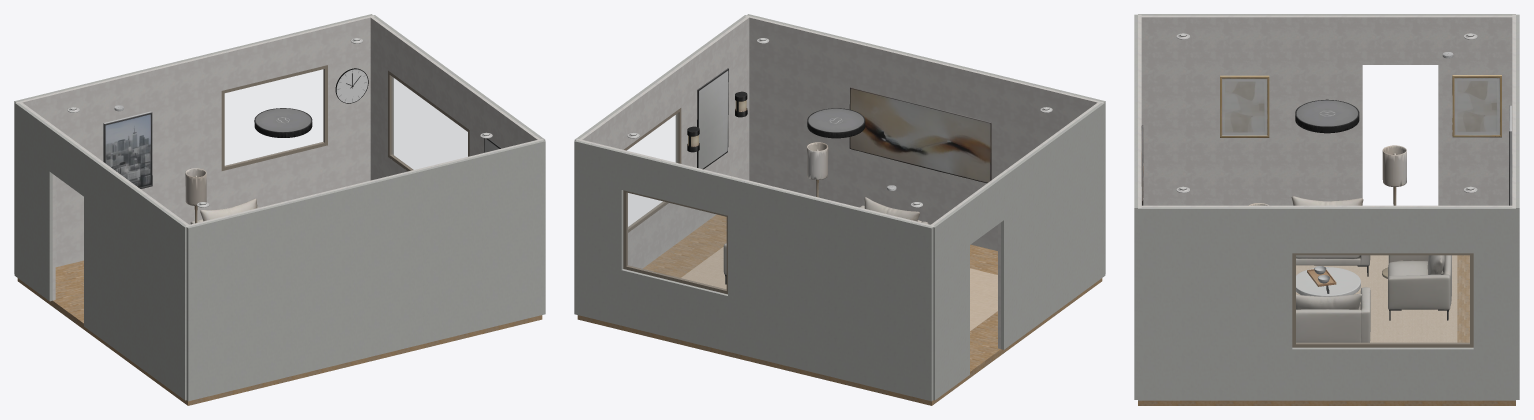
The model's file is scene_web.glb.
3 renders of one model, left to right at view 1: azimuth 30°, elevation 25°; view 2: azimuth 150°, elevation 25°; view 3: azimuth 270°, elevation 25°, orthographic. The views are drawn at different scales.
Parts seen in each view (by area): view 1: geometry_0.003, geometry_0, geometry_0.007, geometry_0.004, glass, glass.001, Mesh_0, geometry_0.016, frame, geometry_0.023, geometry_0.006, geometry_0.001 (+6 smaller); view 2: geometry_0.001, geometry_0.002, geometry_0.007, geometry_0.004, geometry_0.015, glass, Mesh_0, geometry_0.018, Mesh_0.001, glass.001, geometry_0.023, frame (+7 smaller); view 3: geometry_0.005, geometry_0.006, glass.001, Mesh_0.001, geometry_0.011, geometry_0.009, Mesh_0, geometry_0.021, geometry_0.022, frame.001, geometry_0.023, geometry_0.001 (+9 smaller).
Boxes of the visible parts, left/top/right/bottom form: geometry_0.003: left=186, top=140, right=545, bottom=401; geometry_0: left=16, top=15, right=374, bottom=267; geometry_0.007: left=14, top=102, right=186, bottom=400; geometry_0.004: left=370, top=17, right=539, bottom=180; glass: left=225, top=69, right=323, bottom=166; glass.001: left=391, top=76, right=467, bottom=169; Mesh_0: left=17, top=260, right=542, bottom=405; geometry_0.016: left=103, top=111, right=152, bottom=188; frame: left=221, top=65, right=327, bottom=170; geometry_0.023: left=254, top=108, right=312, bottom=137; geometry_0.006: left=20, top=102, right=188, bottom=300; geometry_0.001: left=14, top=14, right=372, bottom=273; geometry_0.001: left=574, top=140, right=933, bottom=401; geometry_0.002: left=745, top=15, right=1103, bottom=250; geometry_0.007: left=933, top=102, right=1105, bottom=400; geometry_0.004: left=580, top=17, right=749, bottom=268; geometry_0.015: left=849, top=87, right=991, bottom=183; glass: left=627, top=193, right=726, bottom=289; Mesh_0: left=577, top=214, right=1102, bottom=405; geometry_0.018: left=697, top=68, right=728, bottom=169; Mesh_0.001: left=681, top=247, right=997, bottom=331; glass.001: left=627, top=113, right=678, bottom=227; geometry_0.023: left=807, top=108, right=865, bottom=138; frame: left=623, top=190, right=727, bottom=294; geometry_0.005: left=1138, top=207, right=1515, bottom=400; geometry_0.006: left=1141, top=15, right=1512, bottom=205; glass.001: left=1296, top=255, right=1469, bottom=343; Mesh_0.001: left=1296, top=255, right=1457, bottom=342; geometry_0.011: left=1296, top=287, right=1370, bottom=342; geometry_0.009: left=1388, top=255, right=1451, bottom=320; Mesh_0: left=1138, top=255, right=1515, bottom=405; geometry_0.021: left=1220, top=75, right=1269, bottom=137; geometry_0.022: left=1452, top=75, right=1501, bottom=137; frame.001: left=1292, top=253, right=1473, bottom=347; geometry_0.023: left=1295, top=99, right=1359, bottom=133; geometry_0.001: left=1516, top=14, right=1519, bottom=399.
Bounding box in the file's own units: 6.1 × 2.9 × 5.1.
Materials: 21 (19 with a texture image).
